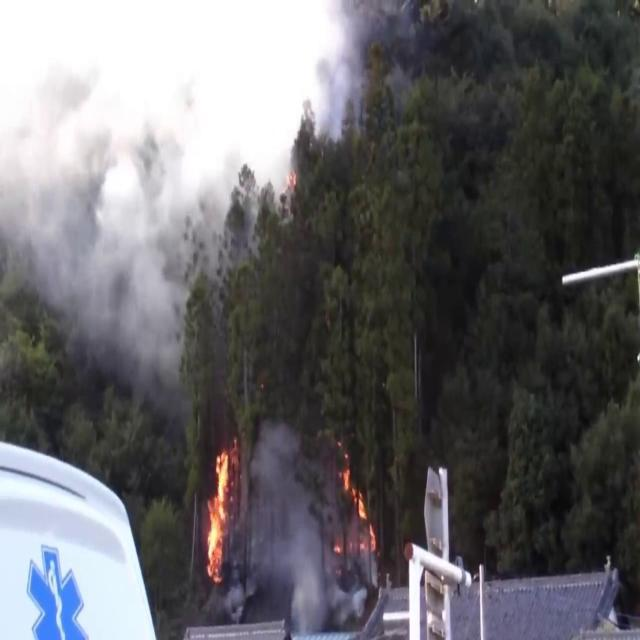Fire: (202, 436, 236, 586), (333, 444, 372, 542)
Smoke: (0, 0, 242, 406), (242, 408, 336, 632)
